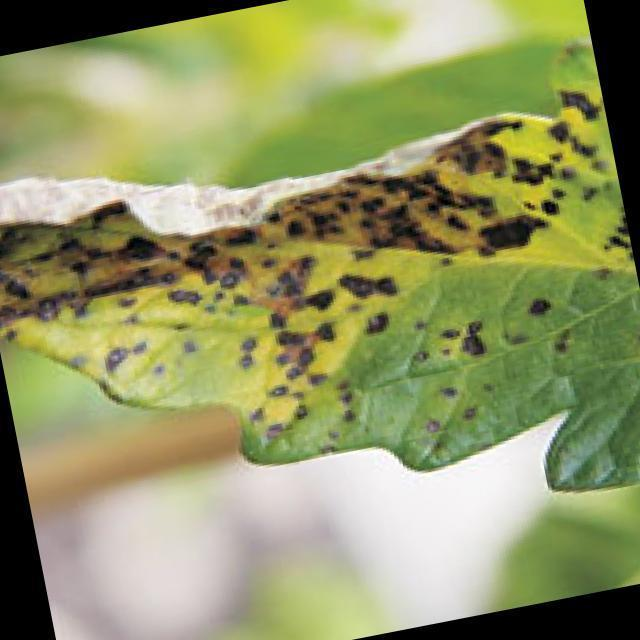Septoria: (0, 86, 640, 512)
